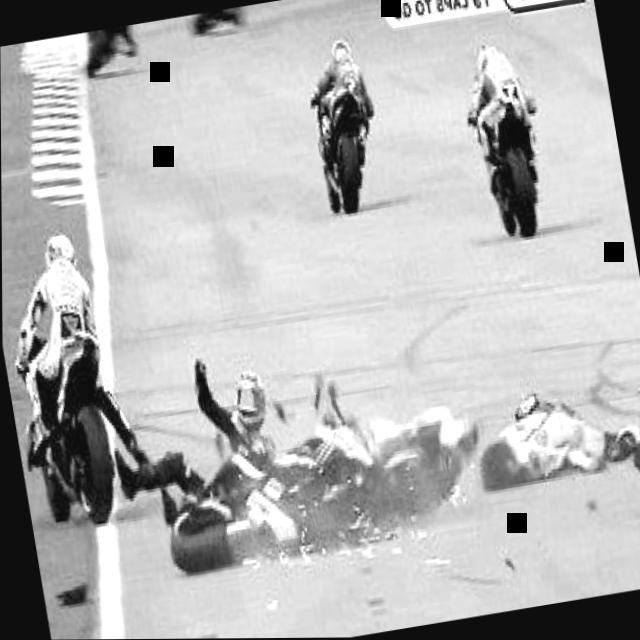Fall-Detected: (119, 327, 306, 574)
